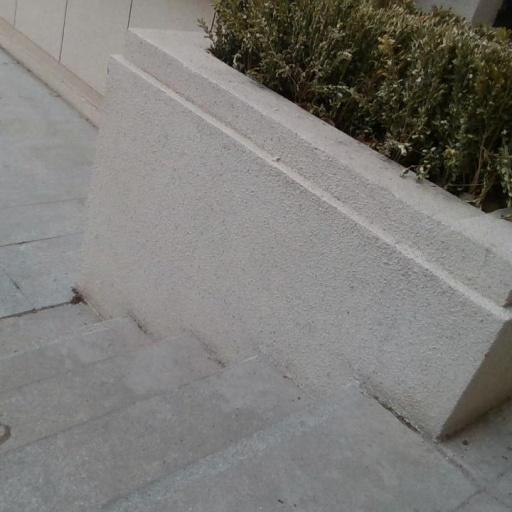stairs: (0, 305, 478, 511)
